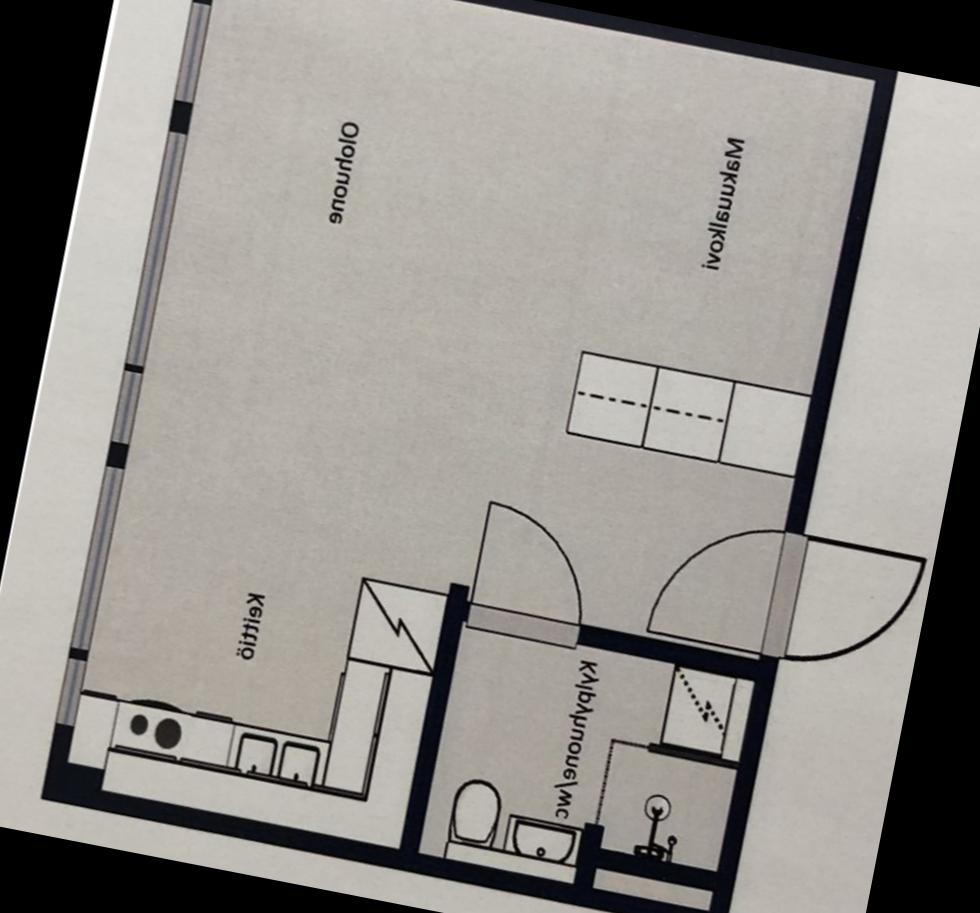door: (752, 519, 926, 686), (637, 496, 808, 664), (459, 494, 602, 652)
window: (117, 116, 202, 376), (64, 453, 133, 661), (165, 0, 220, 112), (100, 358, 153, 454), (48, 642, 97, 730)
